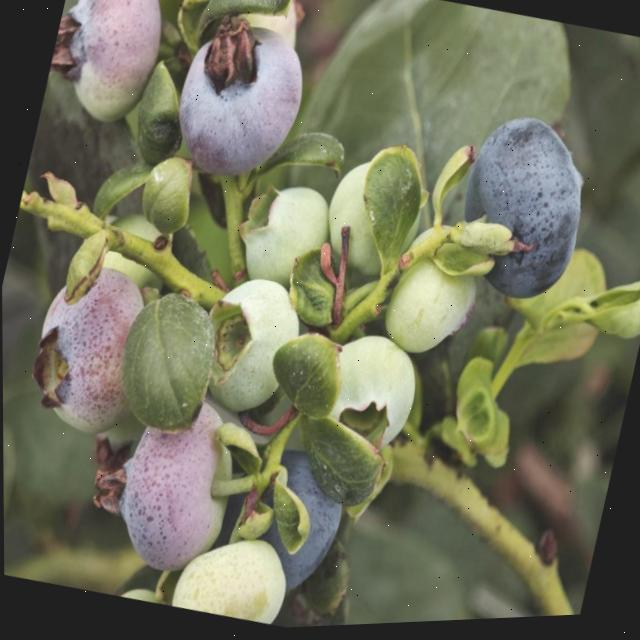RipeBlueBerry: (443, 108, 604, 321)
Semi-RipeBlueBerry: (92, 383, 250, 590), (15, 249, 161, 448), (162, 8, 317, 195), (41, 0, 182, 136)
UnripeBlueBerry: (186, 267, 311, 433), (309, 324, 429, 470), (315, 153, 432, 292), (223, 178, 337, 306), (168, 522, 296, 632), (376, 247, 487, 370)
